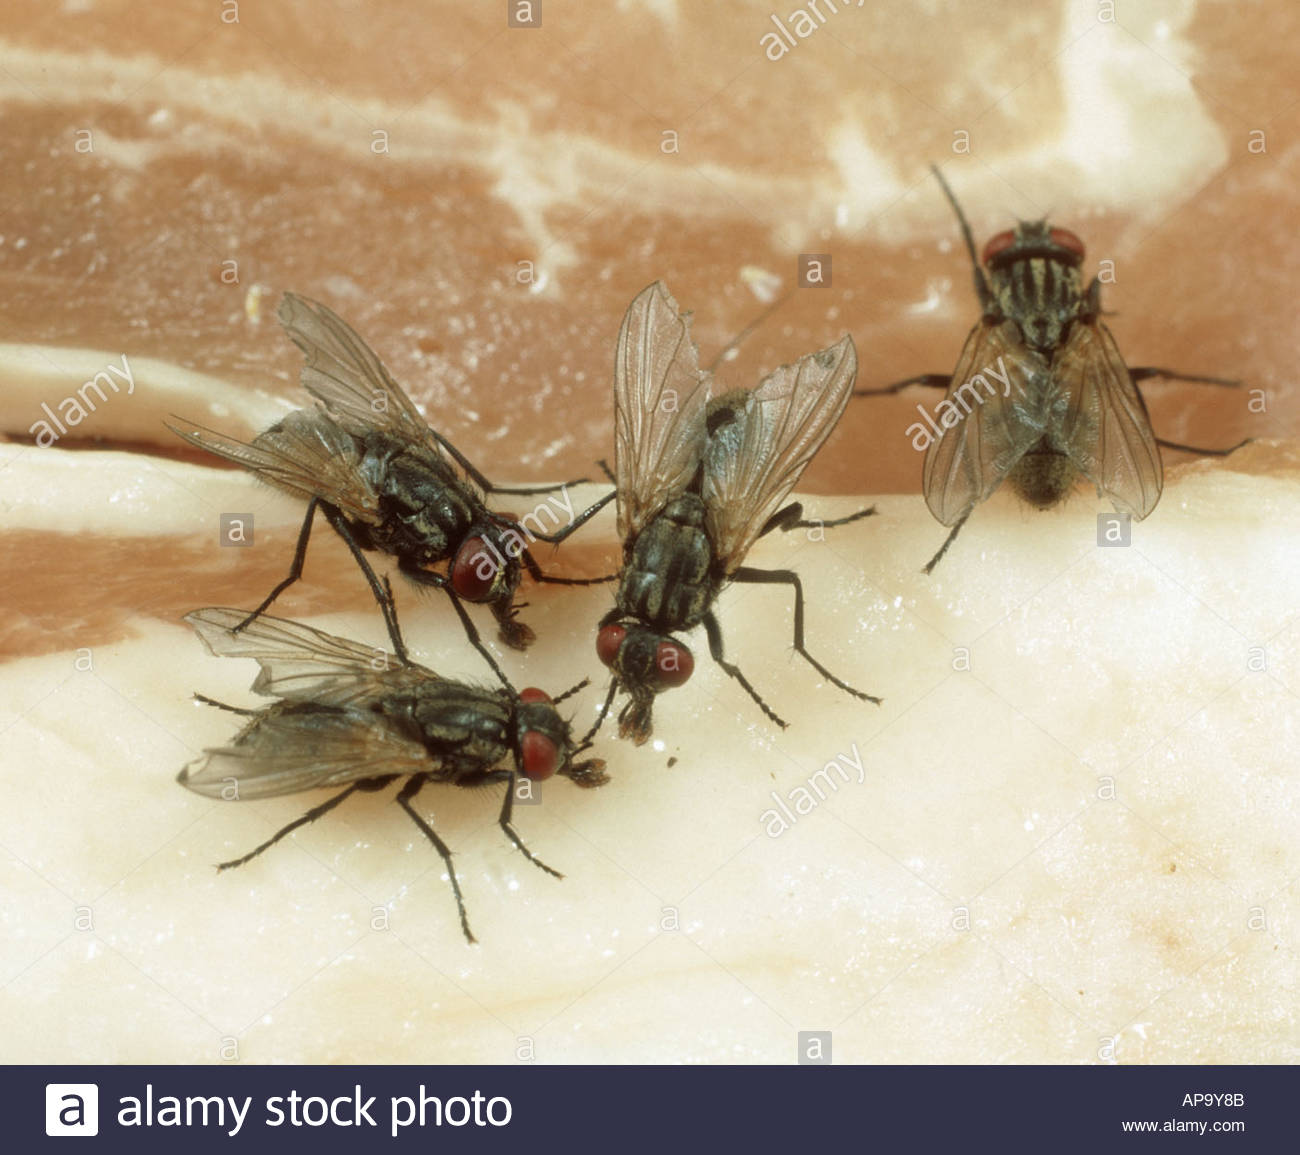house fly: (863, 154, 1272, 595), (169, 280, 613, 680), (563, 263, 889, 761), (172, 595, 622, 945)
